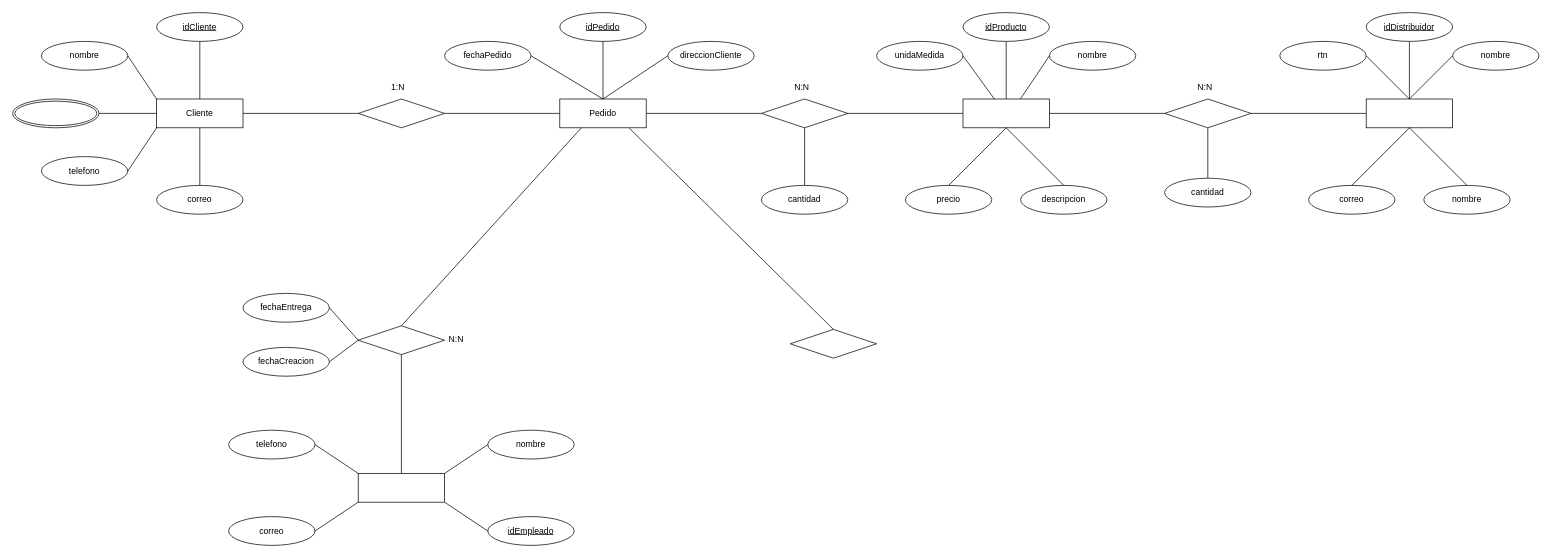
This 1552x558 diagram has some shape labels left out. The centre of each missing label's shape, as x and y in pixels:
"direccion" belongs at point (55, 113).
"Distribuidor" belongs at point (1409, 113).
"Distrubuido" belongs at point (1207, 113).
"Empleado" belongs at point (401, 487).
"Hace" belongs at point (401, 113).
"Producto" belongs at point (1005, 113).
"Se Despacha" belongs at point (401, 340).
"Se paga" belongs at point (833, 343).
"Tiene" belongs at point (804, 113).
